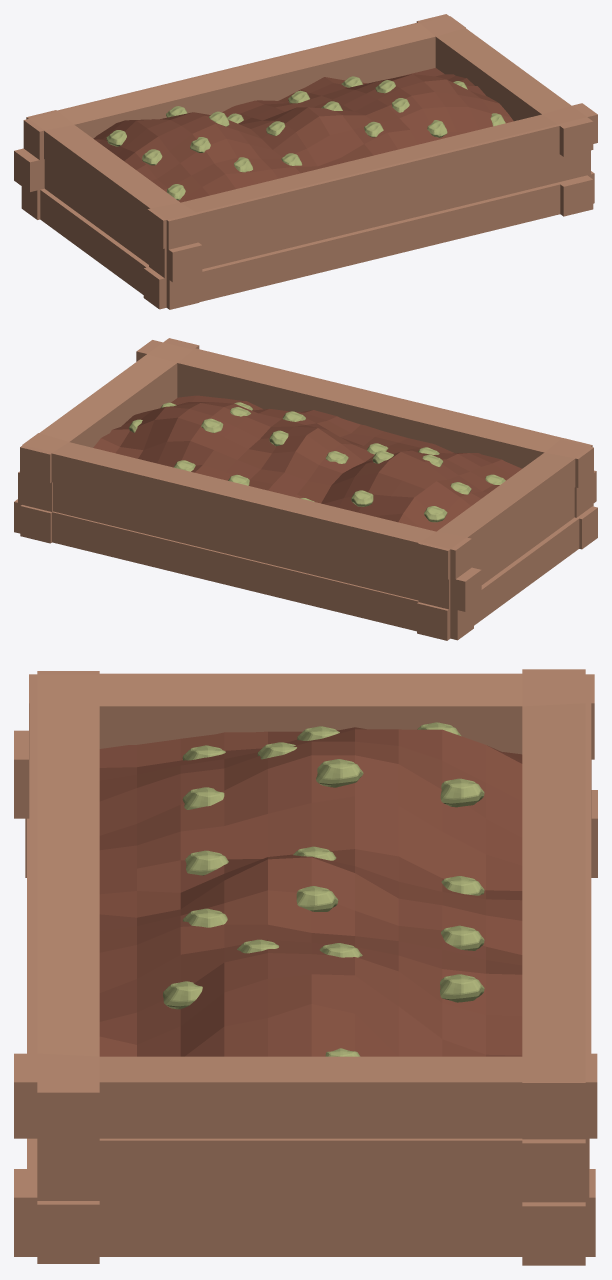
The model's file is planting_area_2_garden.fbx.
The picture shows the model from 3 angles, top to bottom: view 1: azimuth 30°, elevation 25°; view 2: azimuth 150°, elevation 25°; view 3: azimuth 270°, elevation 25°; orthographic projection. The views are drawn at different scales.
Parts seen in each view (by area): view 1: planting_area_2_garden, Cube.015, Cube.016; view 2: planting_area_2_garden, Cube.015, Cube.016; view 3: planting_area_2_garden, Cube.015, Cube.016.
Boxes of the visible parts, x1=… form: planting_area_2_garden: x1=14, y1=14, x2=597, y2=309; Cube.015: x1=93, y1=68, x2=513, y2=202; Cube.016: x1=106, y1=76, x2=505, y2=200; planting_area_2_garden: x1=14, y1=338, x2=597, y2=640; Cube.015: x1=93, y1=395, x2=521, y2=531; Cube.016: x1=129, y1=402, x2=505, y2=522; planting_area_2_garden: x1=14, y1=669, x2=597, y2=1265; Cube.015: x1=99, y1=727, x2=522, y2=1056; Cube.016: x1=163, y1=722, x2=484, y2=1056.
Size of the model in its own units: 123 by 28.69 by 70.22.
